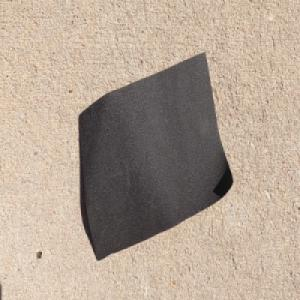PaintChip: (77, 48, 233, 261)
